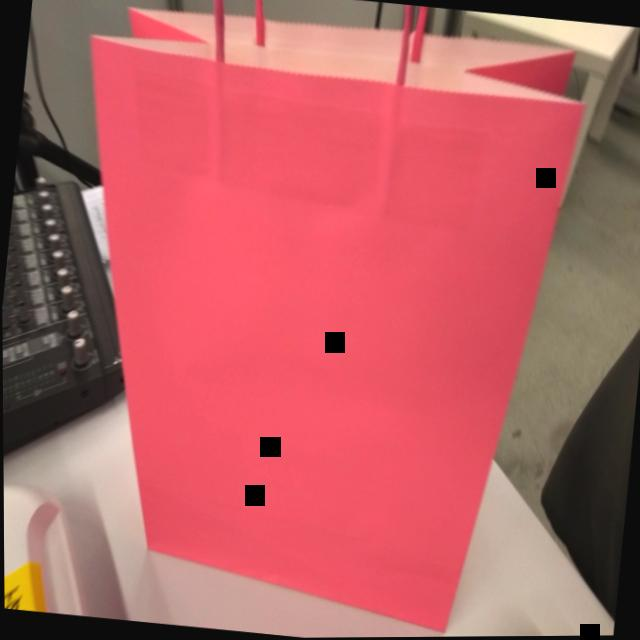help_me_carry_opl: (33, 0, 593, 640)
